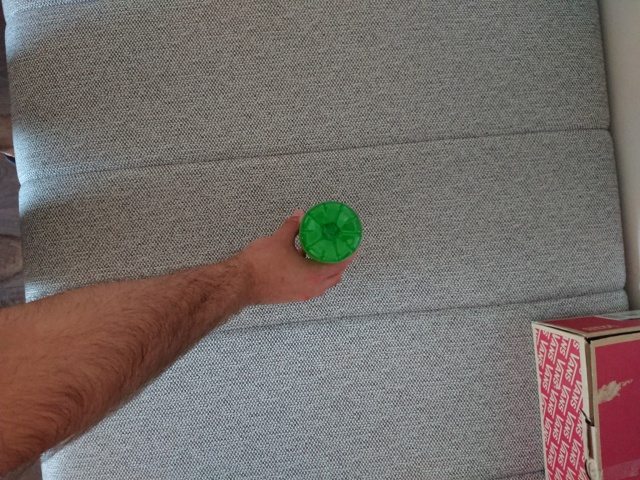Vindi Iso Sport Lemon-Grapefruit 500mL: (296, 199, 365, 266)
